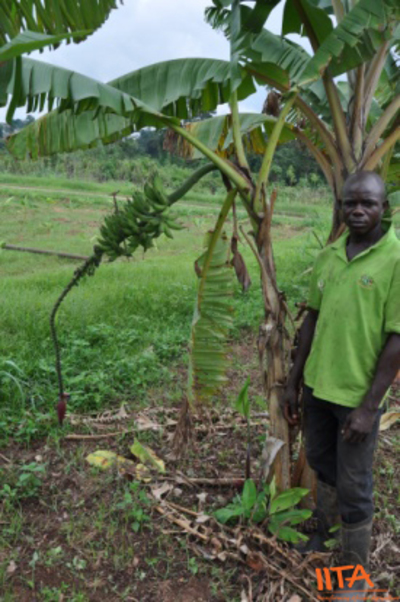bananaHand: (94, 175, 187, 263)
